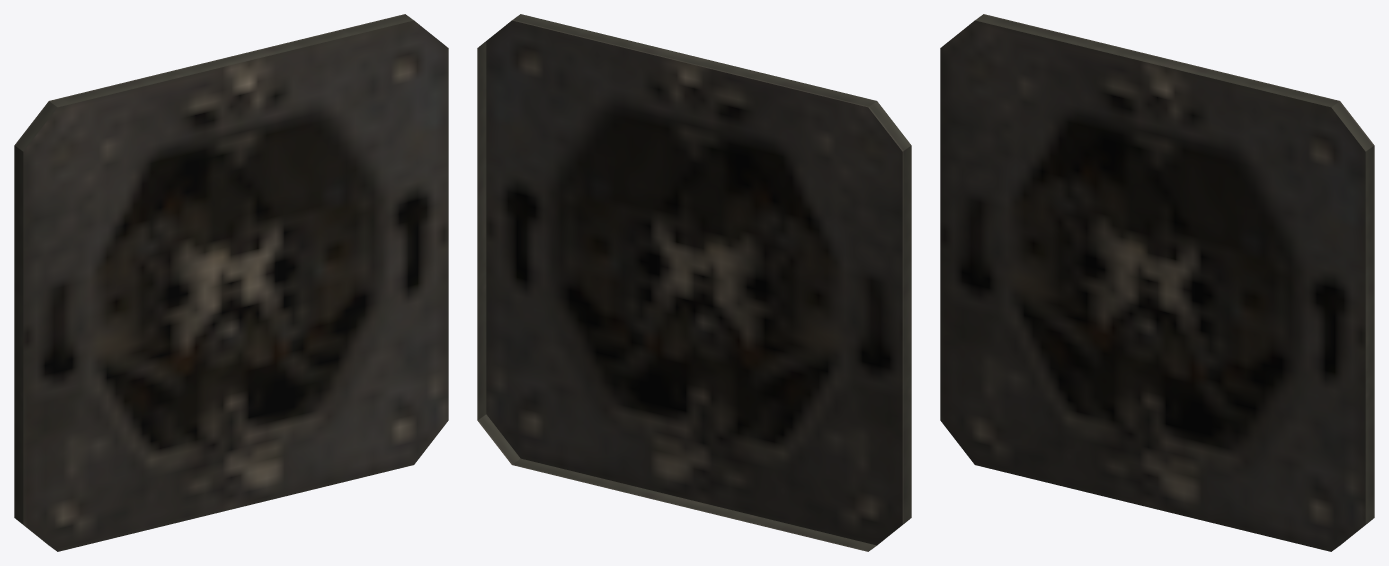
Rendered from electrical_outlet_3.fbx.
The picture shows the model from 3 angles, left to right: view 1: azimuth 30°, elevation 25°; view 2: azimuth 150°, elevation 25°; view 3: azimuth 330°, elevation 25°; orthographic projection.
Parts seen in each view (by area): view 1: electrical_outlet_3; view 2: electrical_outlet_3; view 3: electrical_outlet_3.
Boxes of the visible parts, left/top/right/bottom form: electrical_outlet_3: left=14, top=14, right=448, bottom=551; electrical_outlet_3: left=477, top=14, right=911, bottom=551; electrical_outlet_3: left=940, top=14, right=1374, bottom=551.
Size of the model in its own units: 0.1113 by 0.1112 by 0.004.
Materials: 1 (1 with a texture image).
